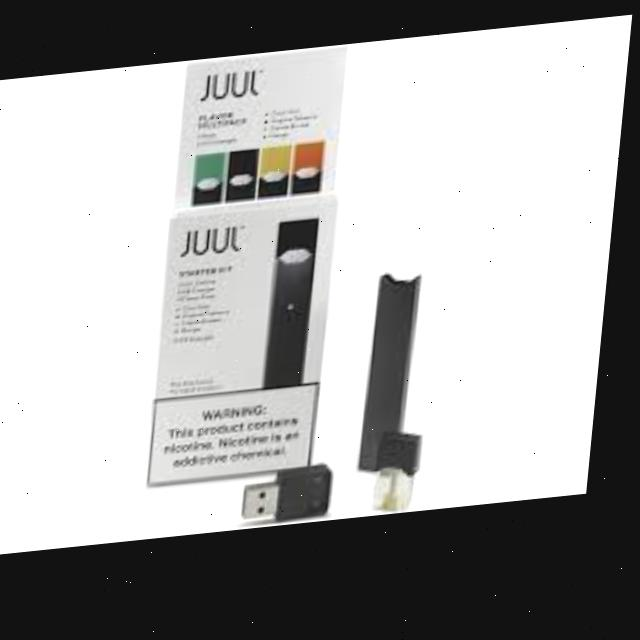vape: (369, 279, 430, 480), (270, 223, 325, 396)
